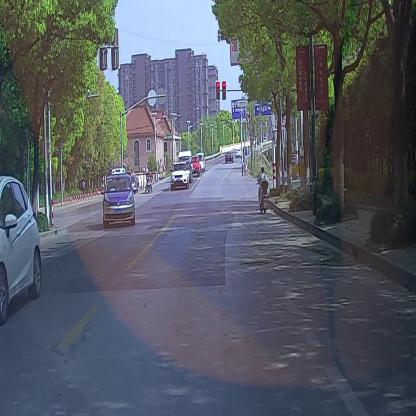Red Light: (222, 81, 227, 100), (216, 80, 219, 101)
